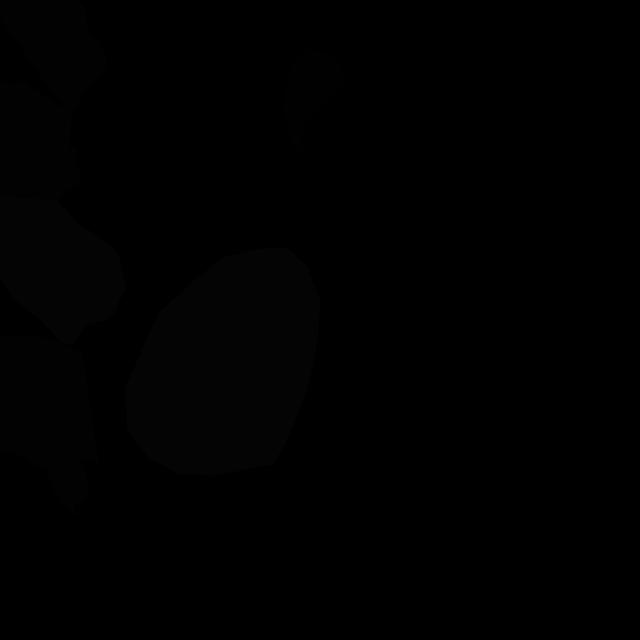cardboard: (0, 336, 100, 519), (0, 78, 81, 199)
rigid_plastic: (283, 49, 347, 153)
soft_plastic: (126, 247, 320, 476), (0, 197, 126, 345)
